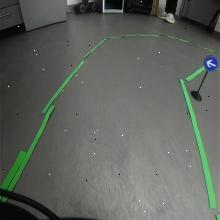left: (205, 54, 217, 73)
